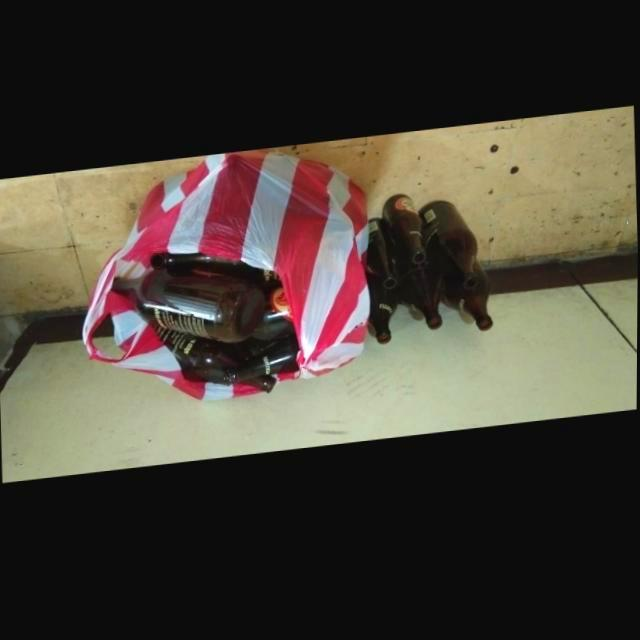glass_bottle: (111, 270, 265, 346), (418, 207, 478, 300), (154, 328, 238, 388), (150, 254, 281, 291), (442, 267, 493, 339), (224, 342, 299, 389), (382, 199, 426, 274), (402, 261, 443, 337), (365, 273, 398, 351), (367, 224, 397, 295), (239, 379, 277, 398)
